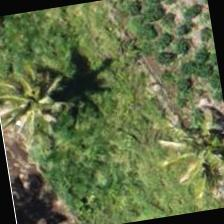Kelapa_Sawit: (0, 51, 83, 153), (168, 103, 223, 202)
